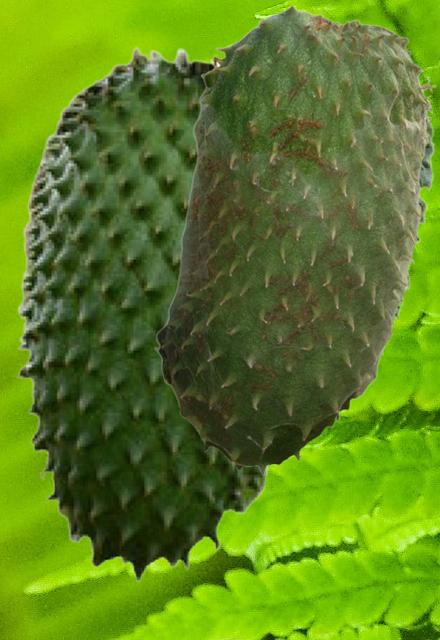guyabano: (16, 46, 275, 581), (153, 3, 435, 474)
